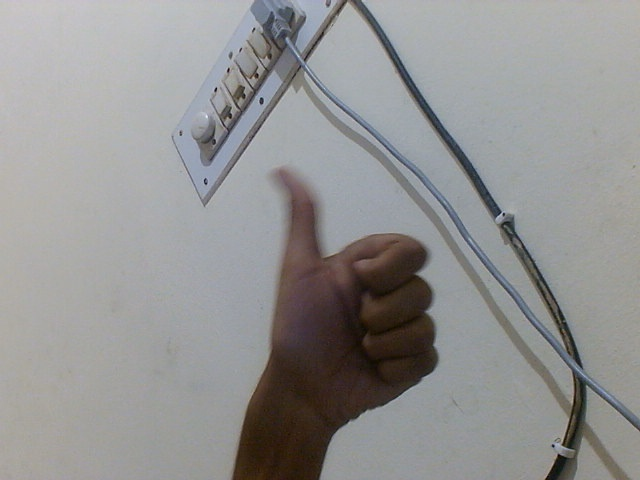hand: (247, 163, 446, 441)
